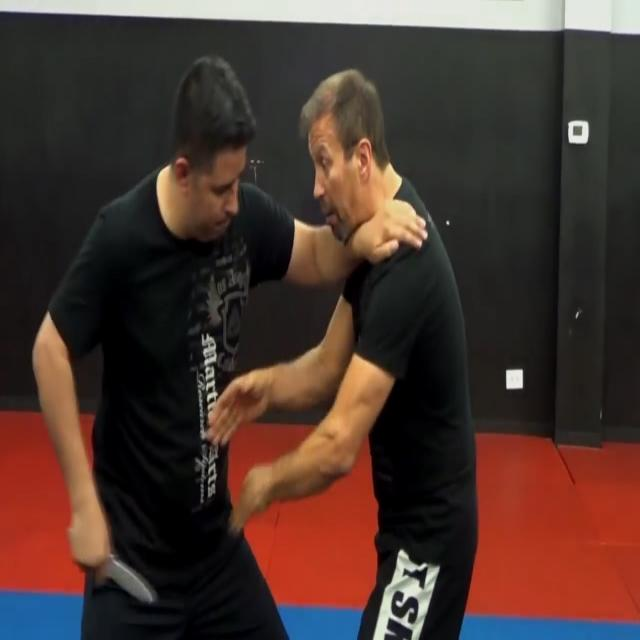knife: (109, 550, 159, 612)
